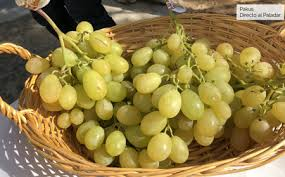Green grapes: (59, 47, 252, 133)
